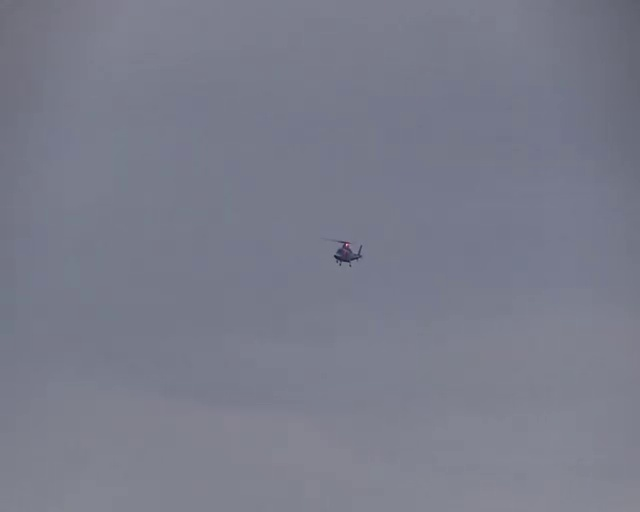HELICOPTER: (321, 237, 363, 268)
